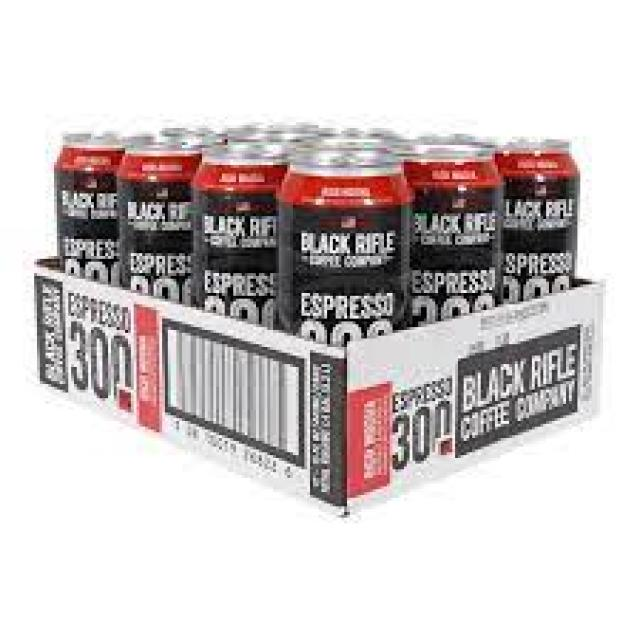Cans: (270, 145, 407, 347)
